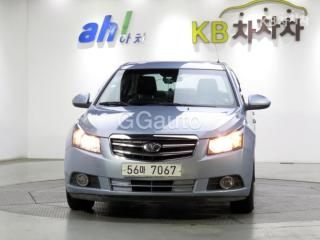0: (157, 163, 164, 176)
5: (127, 165, 133, 175)
6: (164, 165, 170, 176), (133, 165, 139, 175)
7: (149, 164, 157, 175), (170, 165, 177, 176)
마: (139, 165, 147, 176)
